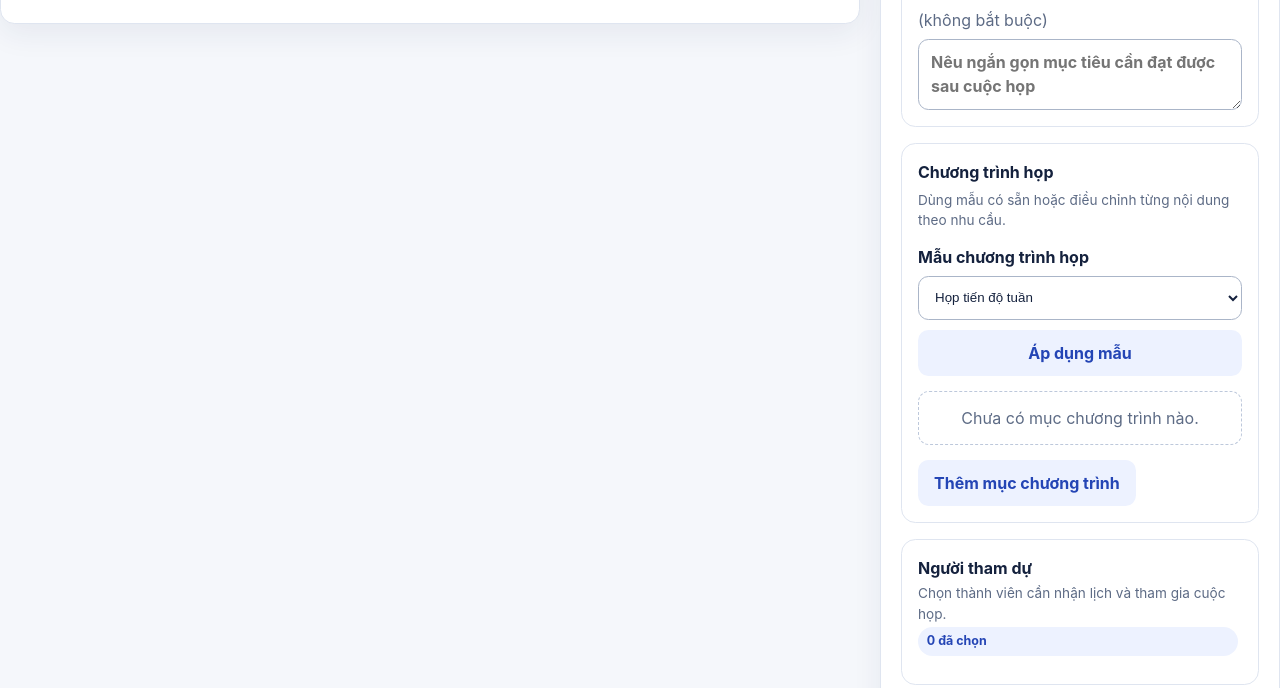
Test: áp dụng agenda preset và xác nhận trước khi ghi đè nội dung hiện có
(page scrolled)
Expected: the dropdown labelled "Mẫu chương trình họp" shows "Họp tiến độ tuần", [918,276,1242,320]
Click the button "Áp dụng mẫu": [1080, 353] box [918,330,1242,376]
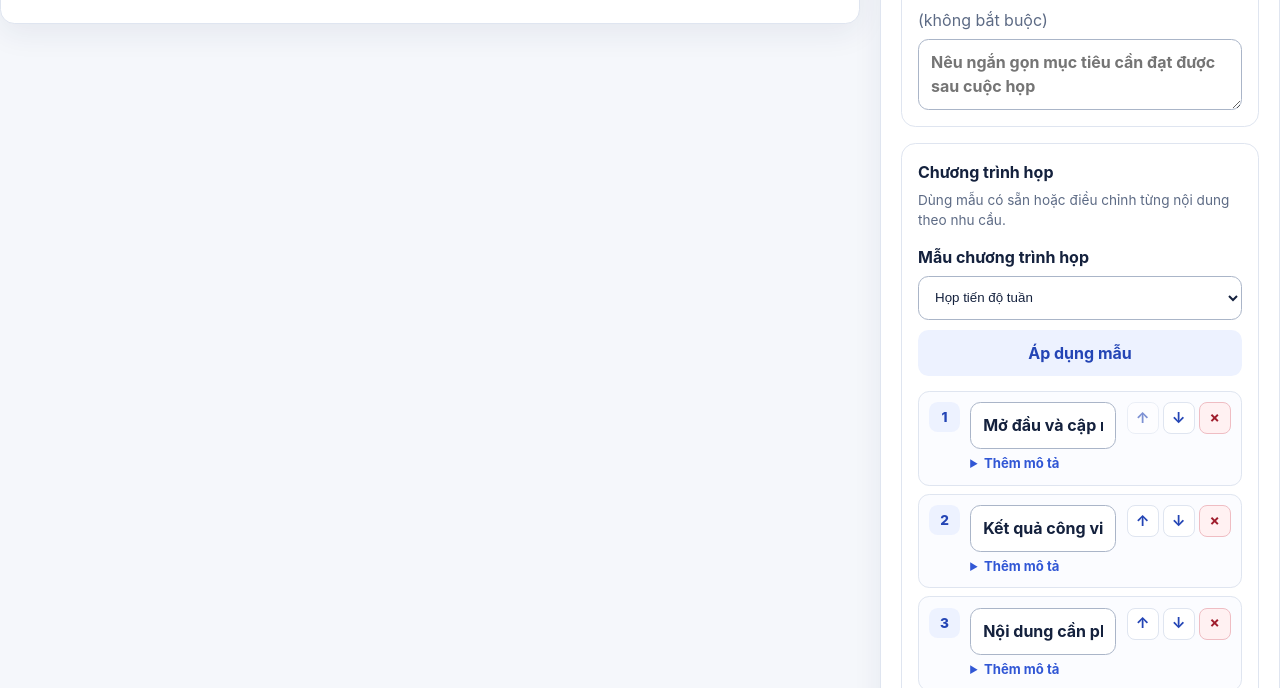
Result: the 2nd field showing "Kết quả công việc tuần qua" is shown at [970,505,1116,552]
Select "Họp khởi động dự án" in the dropdown labelled "Mẫu chương trình họp": [1080, 298] box [918,276,1242,320]
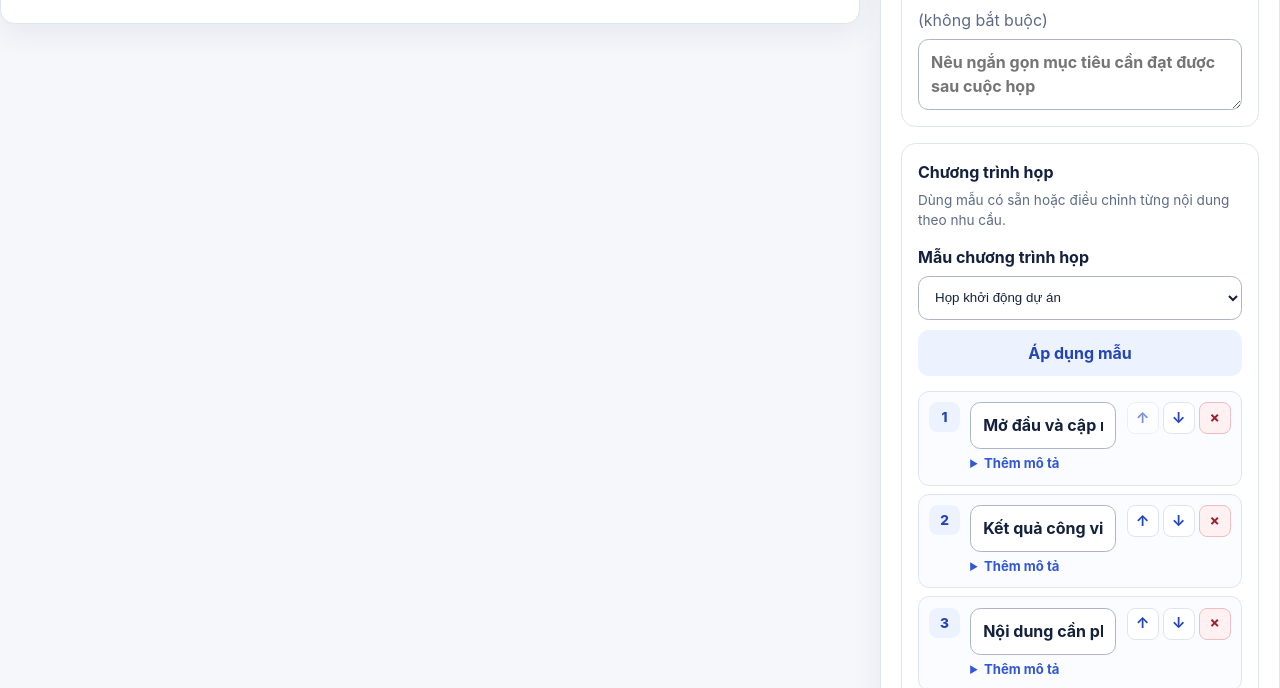
Click the button "Áp dụng mẫu": [1080, 353] box [918,330,1242,376]
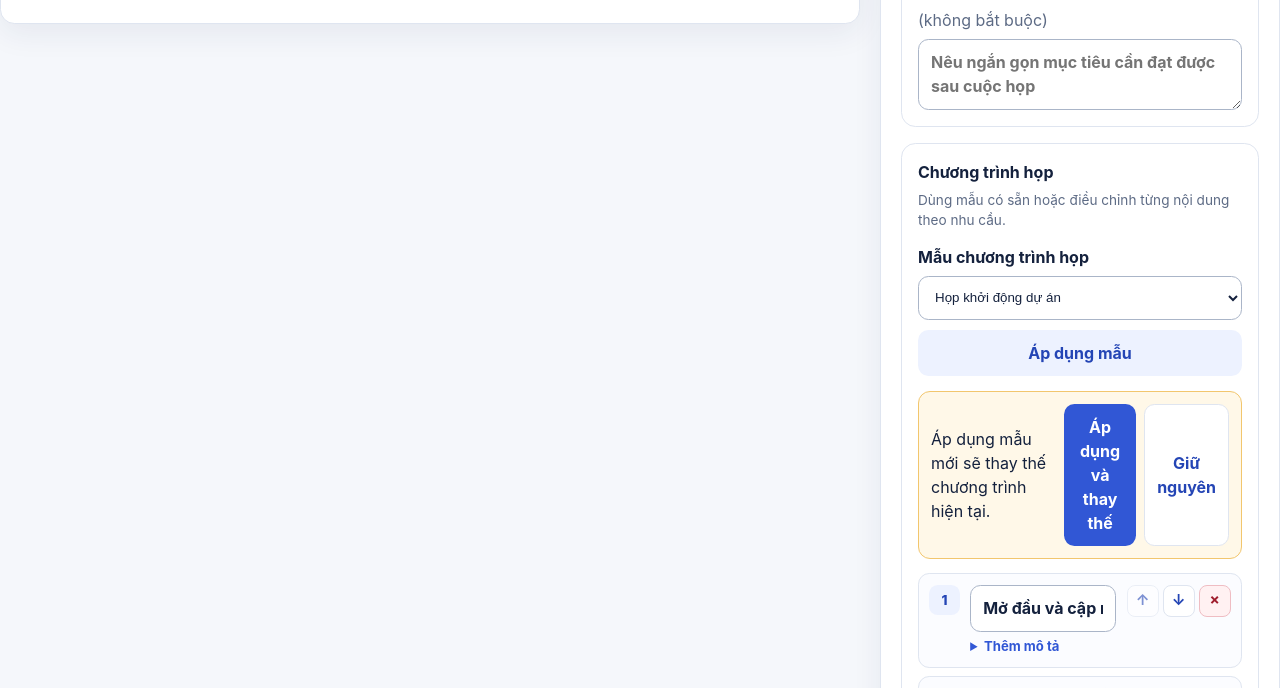
Result: the text "Áp dụng mẫu mới sẽ thay thế chương trình hiện tại." is shown at [931,427,1052,523]
Click the button "Áp dụng và thay thế": [1100, 475] box [1064,404,1136,546]
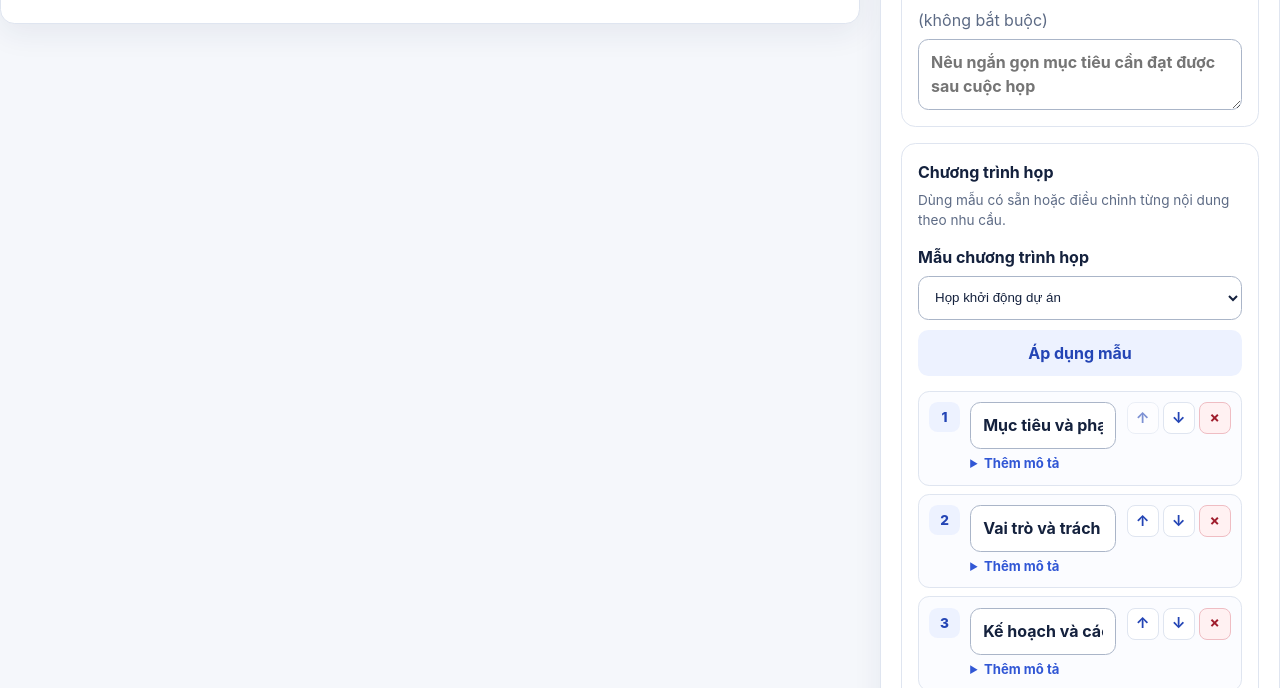
Expected: the field showing "Kết quả công việc tuần qua" is not shown
Result: the 1st field showing "Mục tiêu và phạm vi dự án" is shown at [970,402,1116,449]
